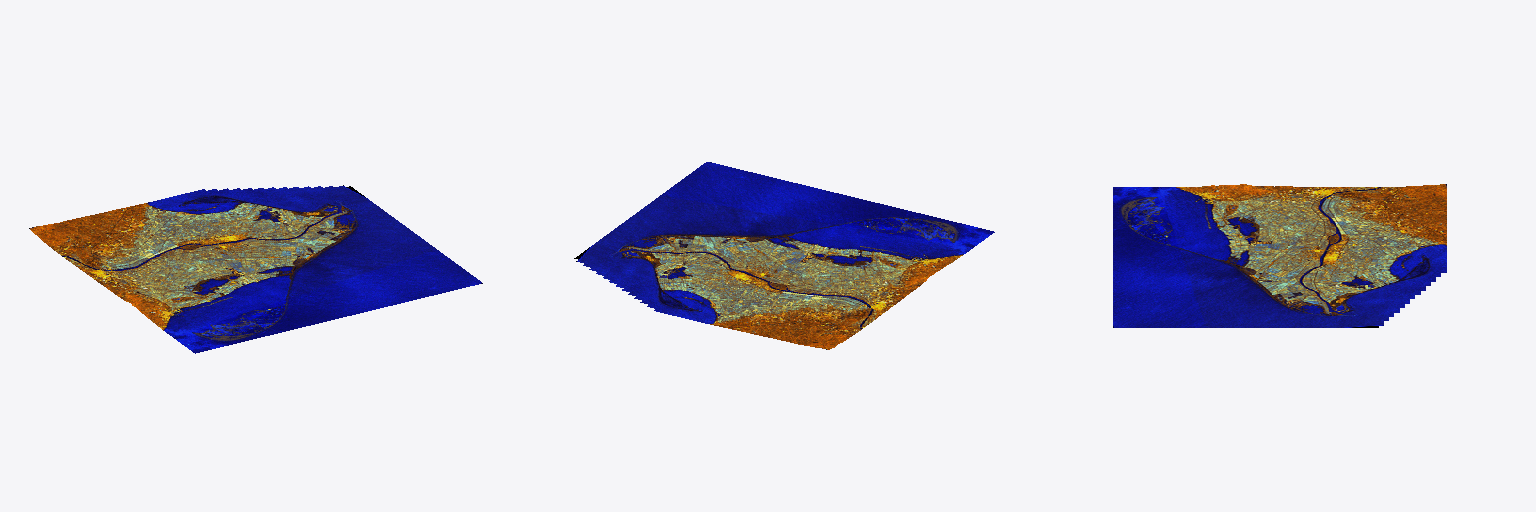
The picture shows the model from 3 angles: view 1: azimuth 30°, elevation 25°; view 2: azimuth 150°, elevation 25°; view 3: azimuth 270°, elevation 25°; orthographic projection.
Parts seen in each view (by area): view 1: deltaMulti_MetElipResi; view 2: deltaMulti_MetElipResi; view 3: deltaMulti_MetElipResi.
Part boxes in pixels (left/top/right/bottom): deltaMulti_MetElipResi: left=29, top=185, right=482, bottom=353; deltaMulti_MetElipResi: left=574, top=162, right=994, bottom=349; deltaMulti_MetElipResi: left=1113, top=184, right=1446, bottom=327.
Bounding box in the file's own units: 19.48 × 0.267 × 19.48.
Materials: 1 (1 with a texture image).